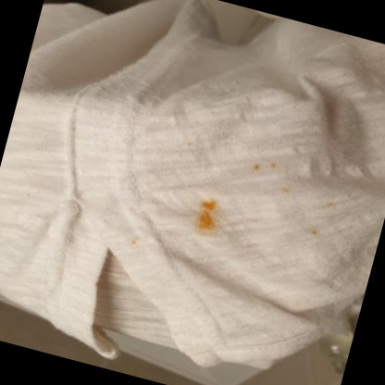kimchi: (195, 198, 223, 236), (248, 159, 264, 179), (277, 183, 294, 197), (267, 159, 282, 169), (321, 200, 332, 212), (127, 242, 139, 252), (309, 227, 320, 237), (186, 141, 196, 150)
